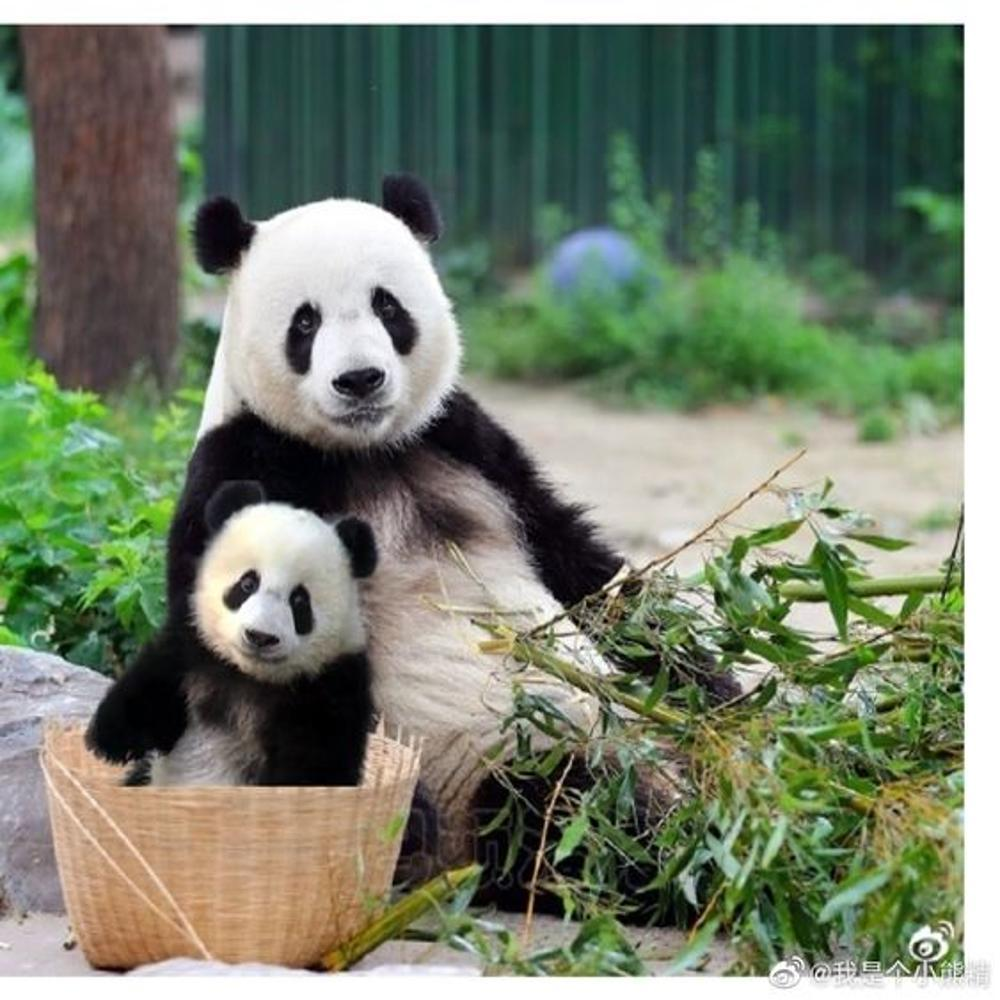panda: (86, 482, 392, 803)
